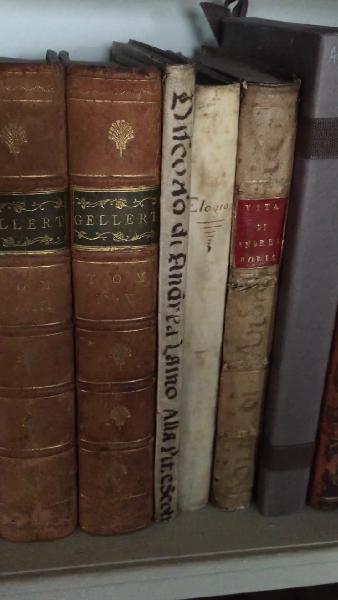Aa6-24: (159, 62, 197, 536)
Aa6-25: (185, 75, 235, 512)
Aa6-26: (217, 57, 289, 514)
Aa6-27: (264, 15, 338, 512)
